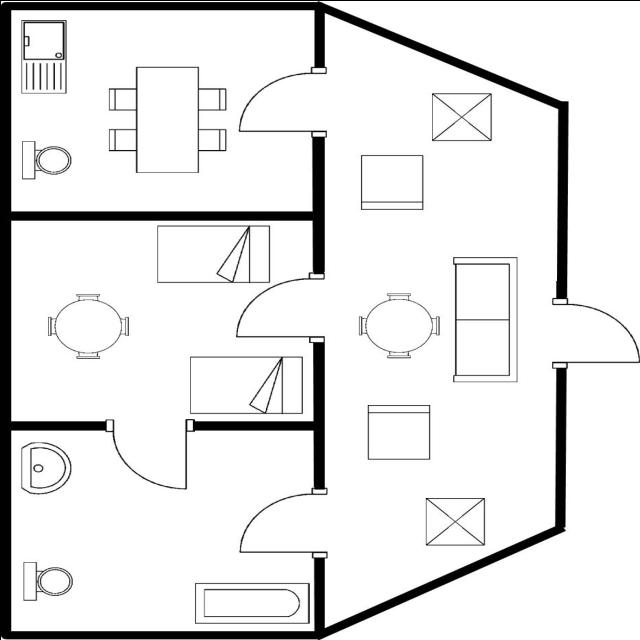bed: (182, 350, 306, 418), (148, 221, 274, 287)
coffee_table: (424, 88, 498, 146), (420, 492, 490, 548)
dining_table: (102, 60, 233, 178)
large_sink: (19, 556, 79, 604), (18, 136, 76, 183)
round_table: (351, 288, 444, 364), (41, 291, 136, 363)
sink: (15, 15, 76, 96)
small_sink: (15, 436, 81, 498)
small_sofa: (447, 250, 527, 388), (362, 396, 438, 464), (357, 151, 429, 213)
tub: (188, 575, 314, 627)
